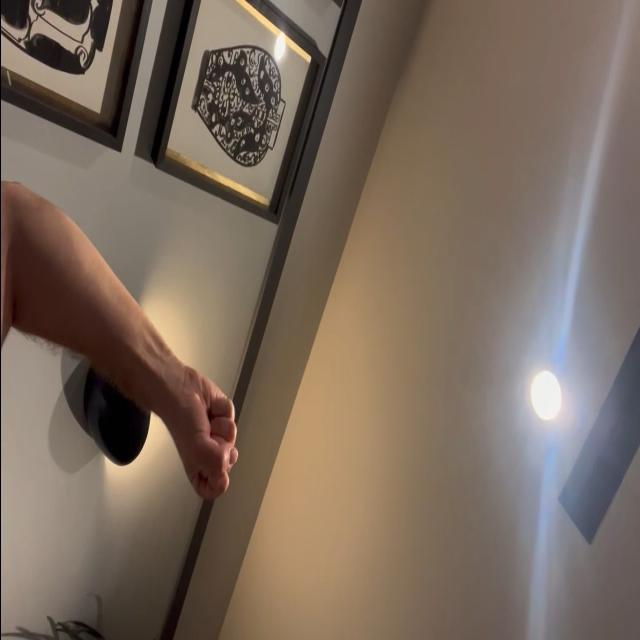Rock: (174, 366, 238, 504)
